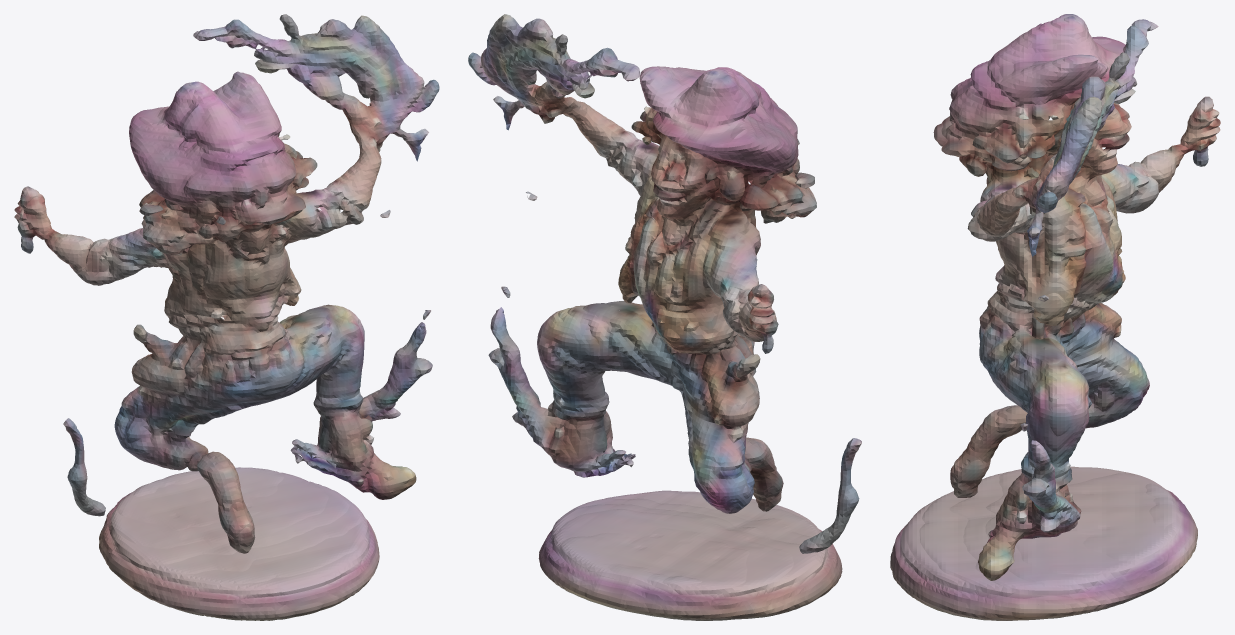
The model's file is huzz-figurine.glb.
3 views of the same model, side by side, from view 1: azimuth 30°, elevation 25°; view 2: azimuth 150°, elevation 25°; view 3: azimuth 270°, elevation 25° (orthographic). The views are drawn at different scales.
Visible parts, largest first — view 1: world; view 2: world; view 3: world.
Boxes of the visible parts, x1,y1,x2,y2 form: world: [14, 14, 439, 620]; world: [468, 14, 861, 620]; world: [890, 14, 1220, 620].
Size of the model in its own units: 0.7752 by 1.03 by 0.5479.
